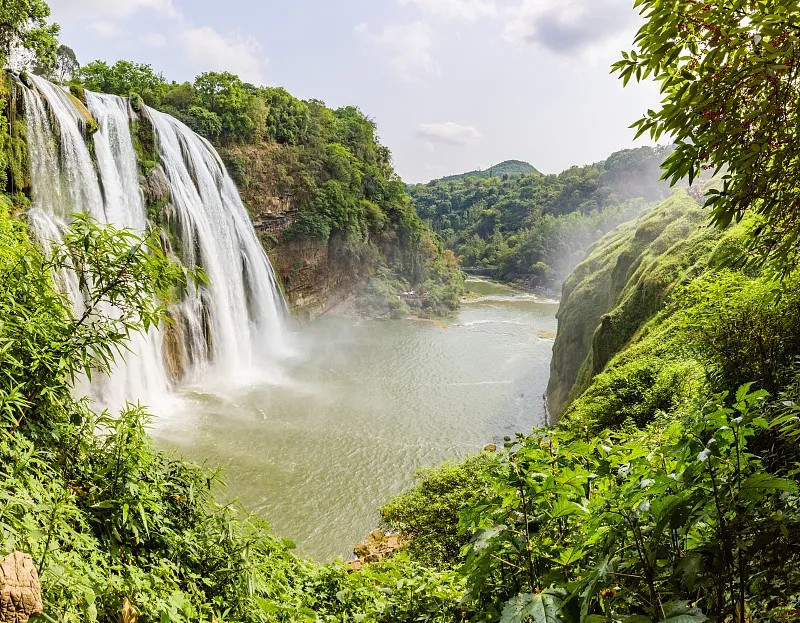Huangguoshu: (11, 68, 288, 414)
